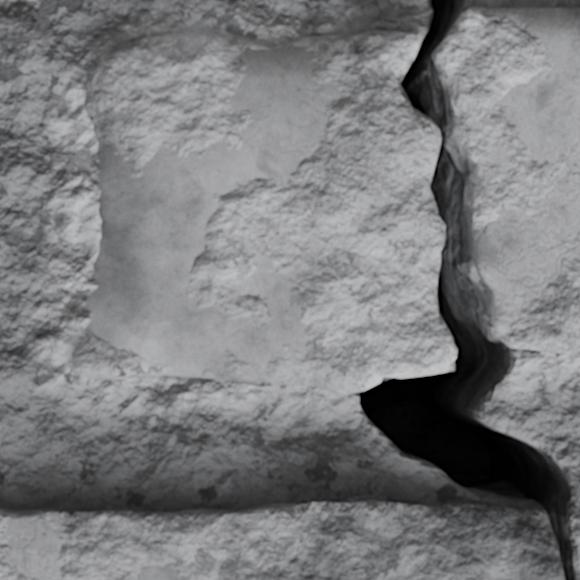brick: (0, 495, 563, 579)
broken_brick: (70, 28, 455, 395), (439, 6, 579, 355)
crack: (355, 0, 578, 579)
